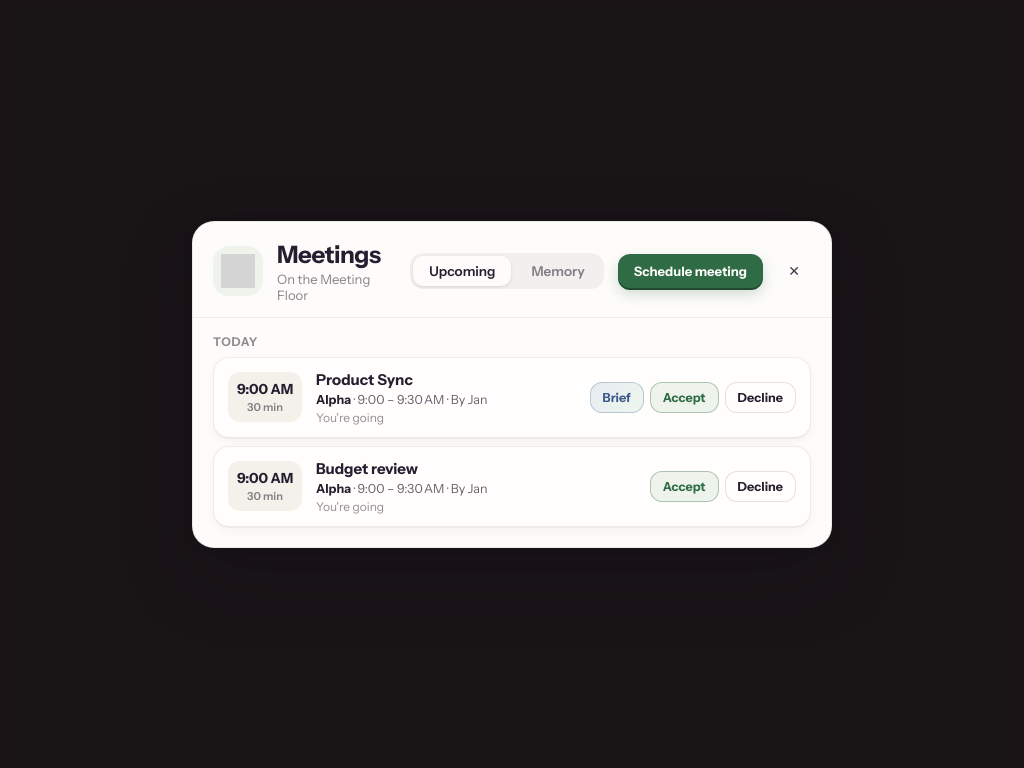
it: Pre-meeting Brief › renders identity, chronological decisions, recorded change, commitments (yours first) and open items as recorded
What coordinates should you click on to do the following:
click the button with test id "meeting-brief"
I would click on:
 (617, 397)
Its box is [590,382,644,412].
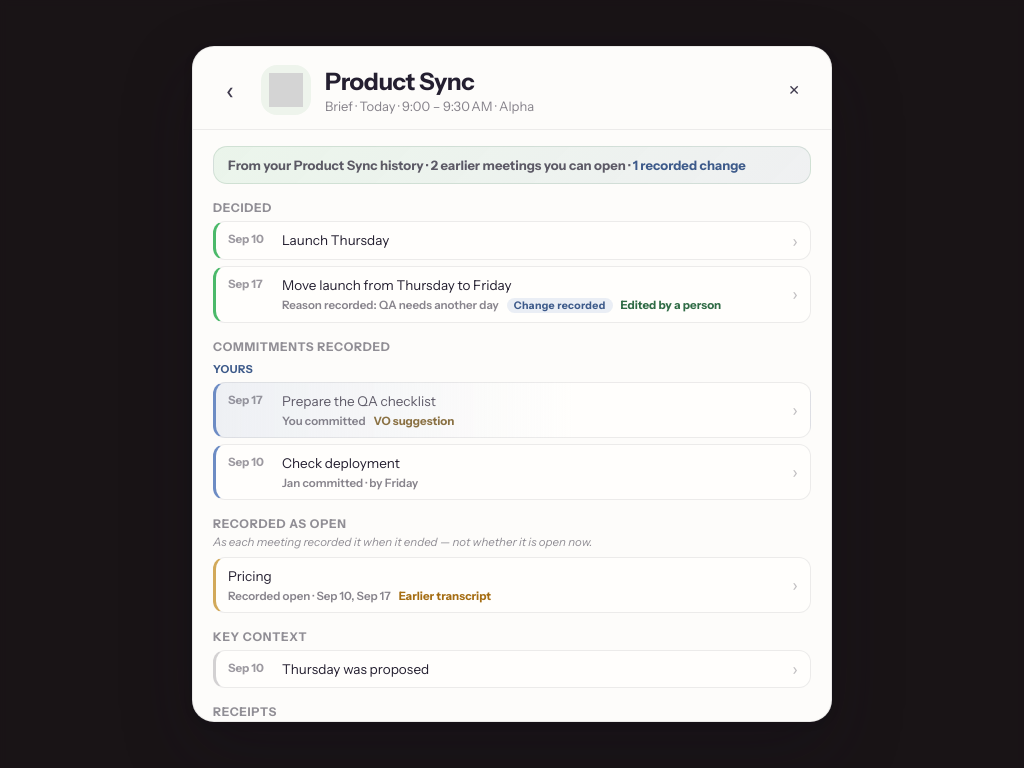
Now the heading with test id "brief-title" reads "Product Sync", box [325,67,474,96]
Now the element with test id "brief-intro" shows "From your Product Sync history · 2 earlier meetings you can open", box [213,146,811,184]
Now the element with test id "brief-intro" shows "1 recorded change", box [213,146,811,184]
